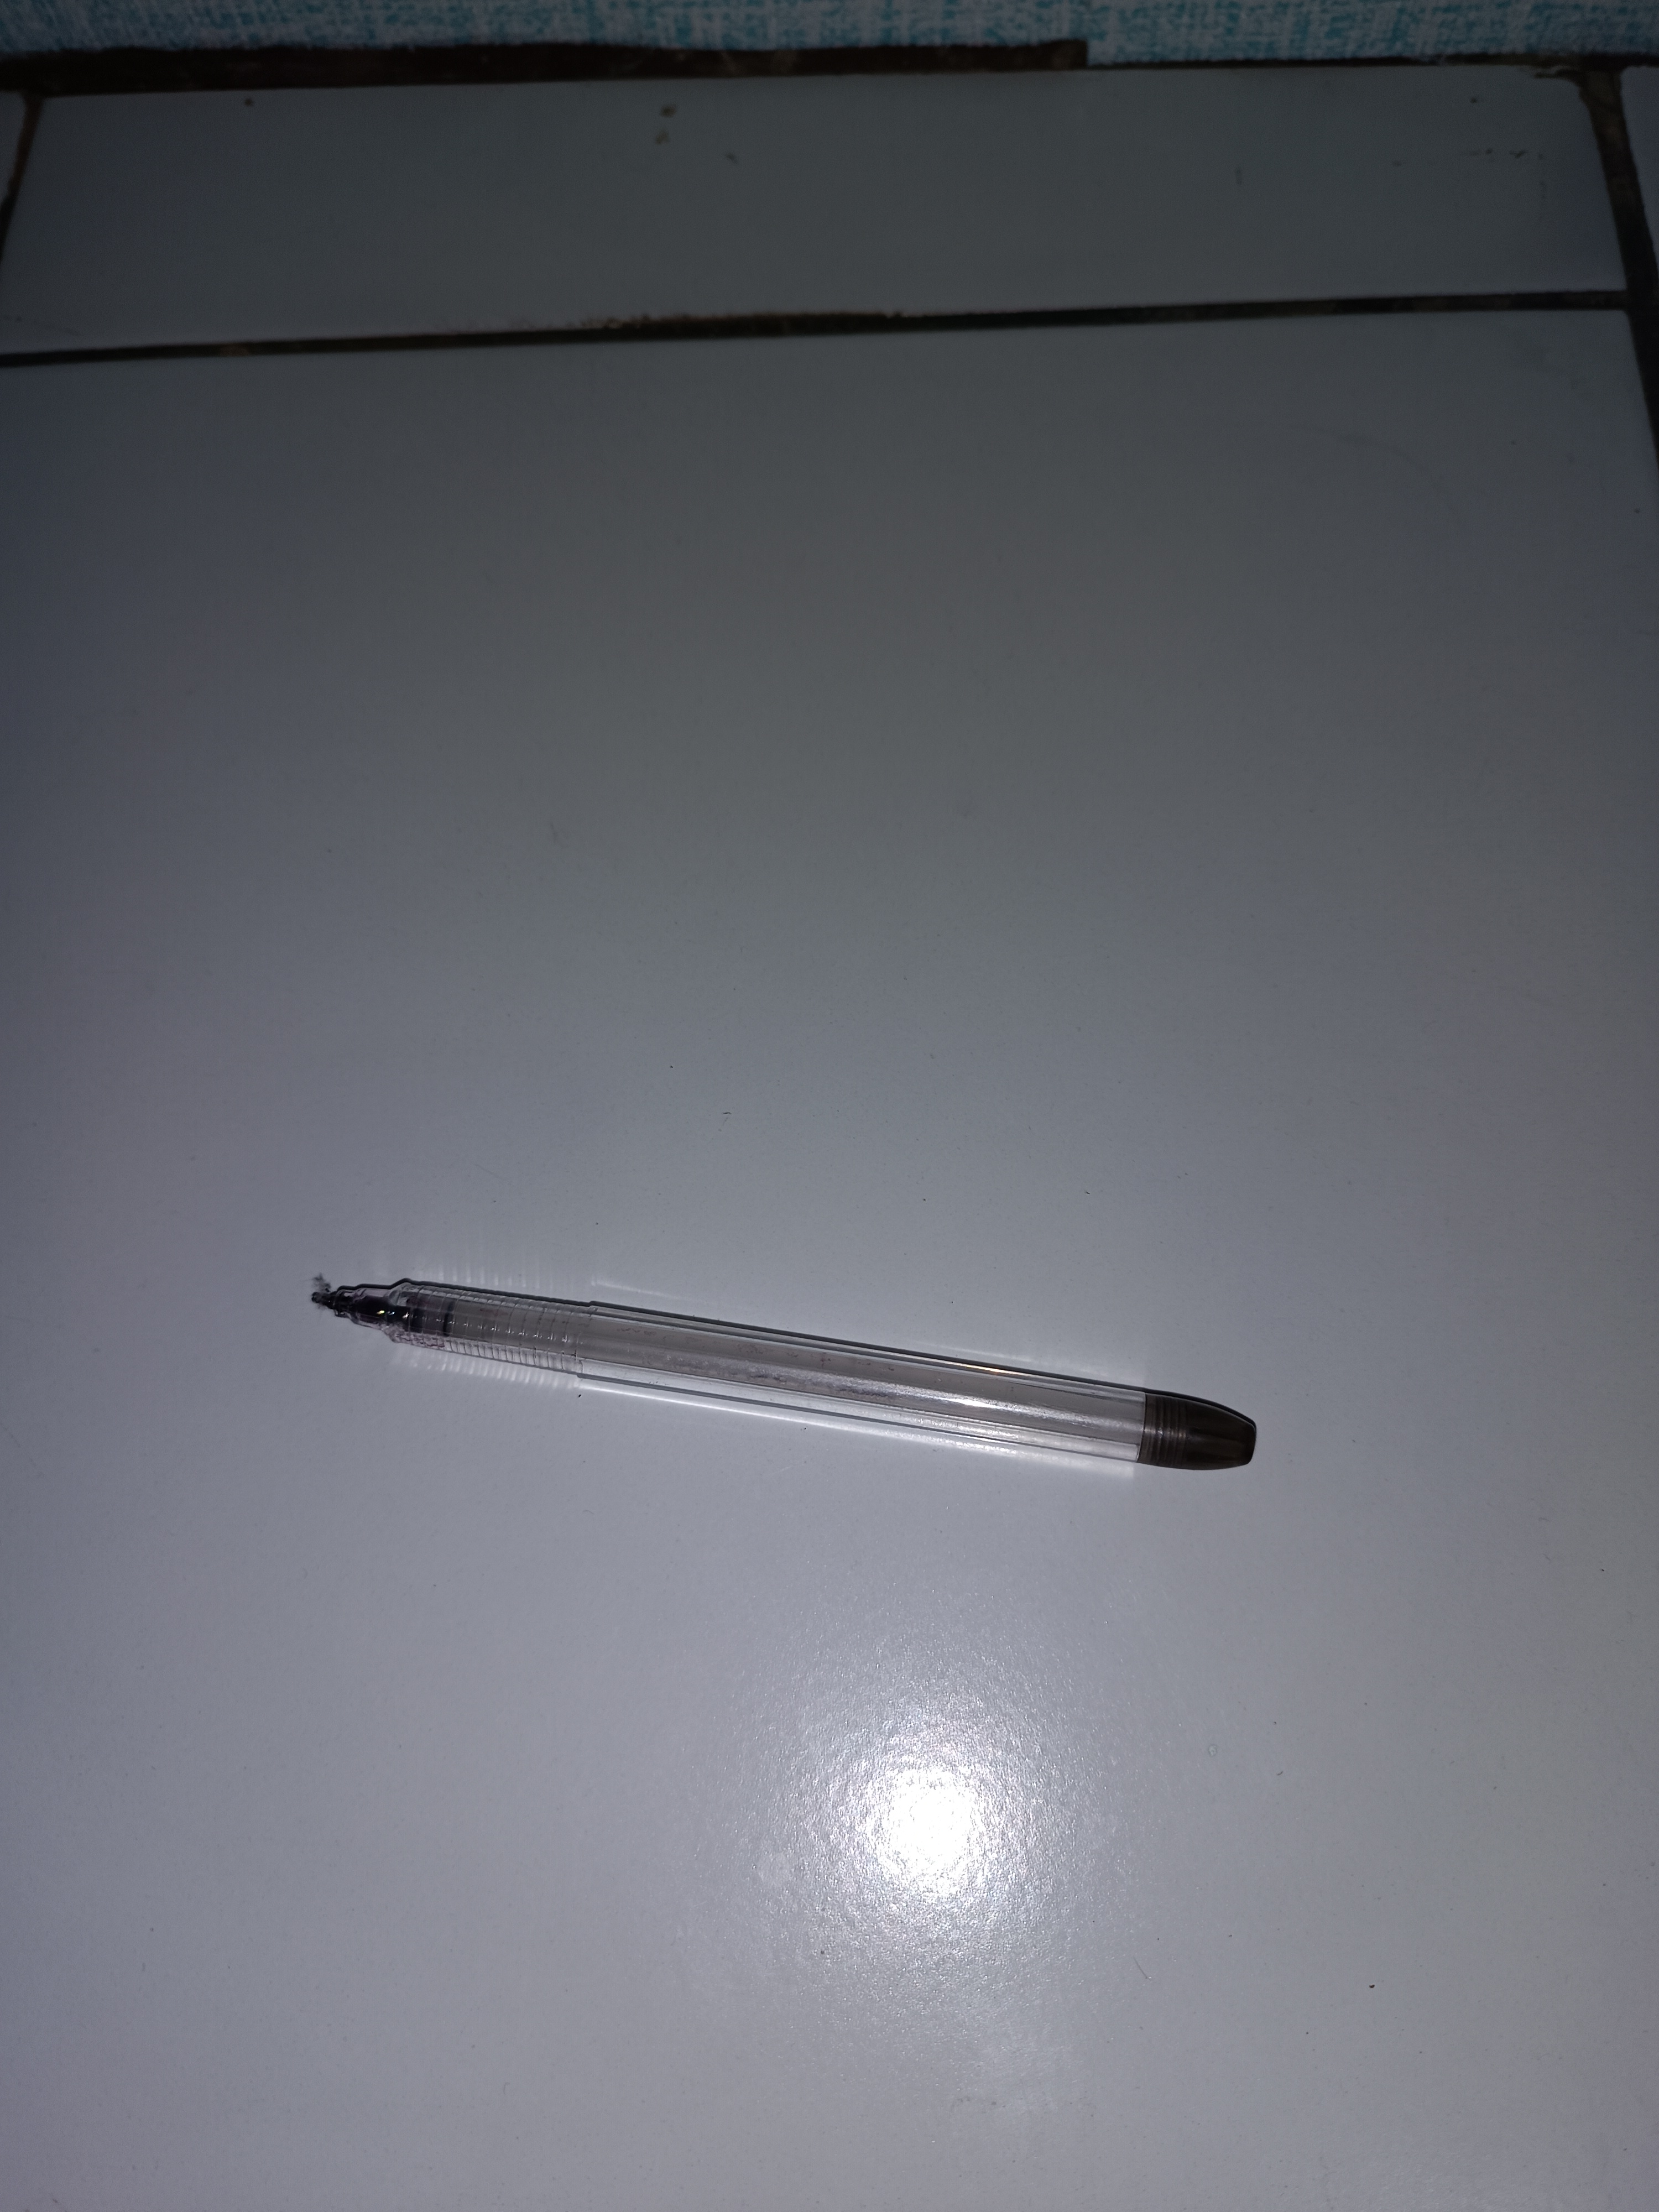Pen: (232, 1116, 1412, 1601)
